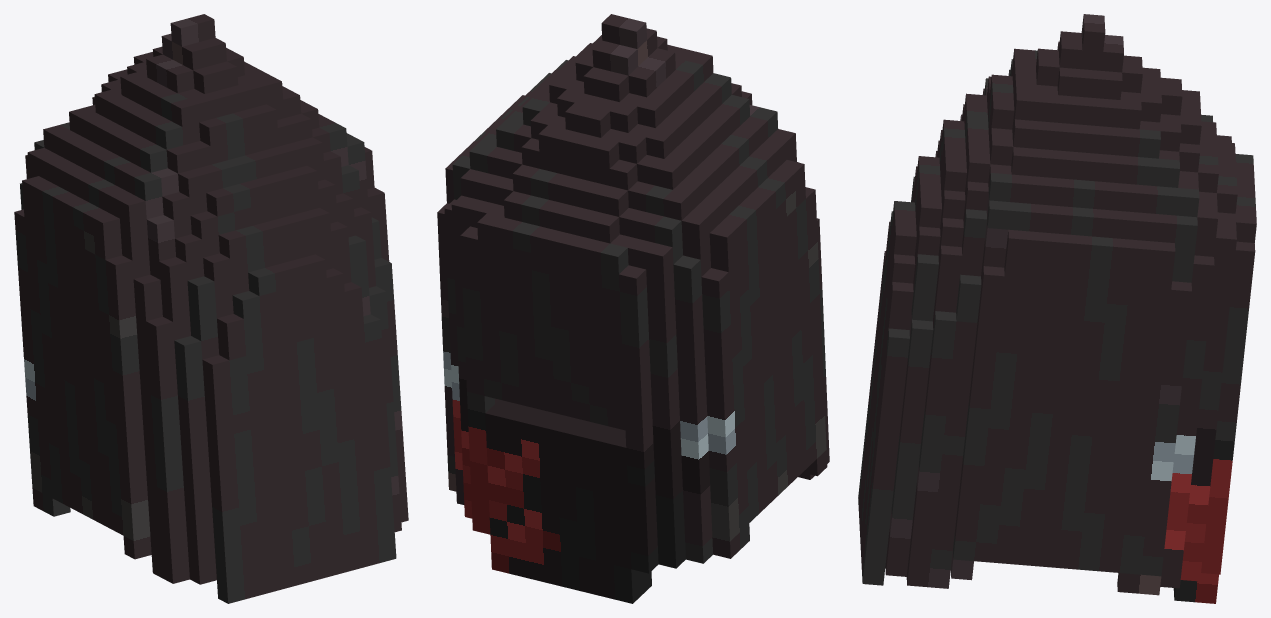
3 views of the same model, side by side, from view 1: azimuth 30°, elevation 25°; view 2: azimuth 150°, elevation 25°; view 3: azimuth 270°, elevation 25° (orthographic). The views are drawn at different scales.
Visible parts, largest first — view 1: Equip_Head-Local; view 2: Equip_Head-Local; view 3: Equip_Head-Local.
Boxes of the visible parts, left/top/right/bottom form: Equip_Head-Local: left=14, top=14, right=408, bottom=603; Equip_Head-Local: left=437, top=14, right=829, bottom=603; Equip_Head-Local: left=858, top=14, right=1256, bottom=603.
Size of the model in its own units: 16.43 by 28.81 by 19.06.
1 material, 1 textured.
